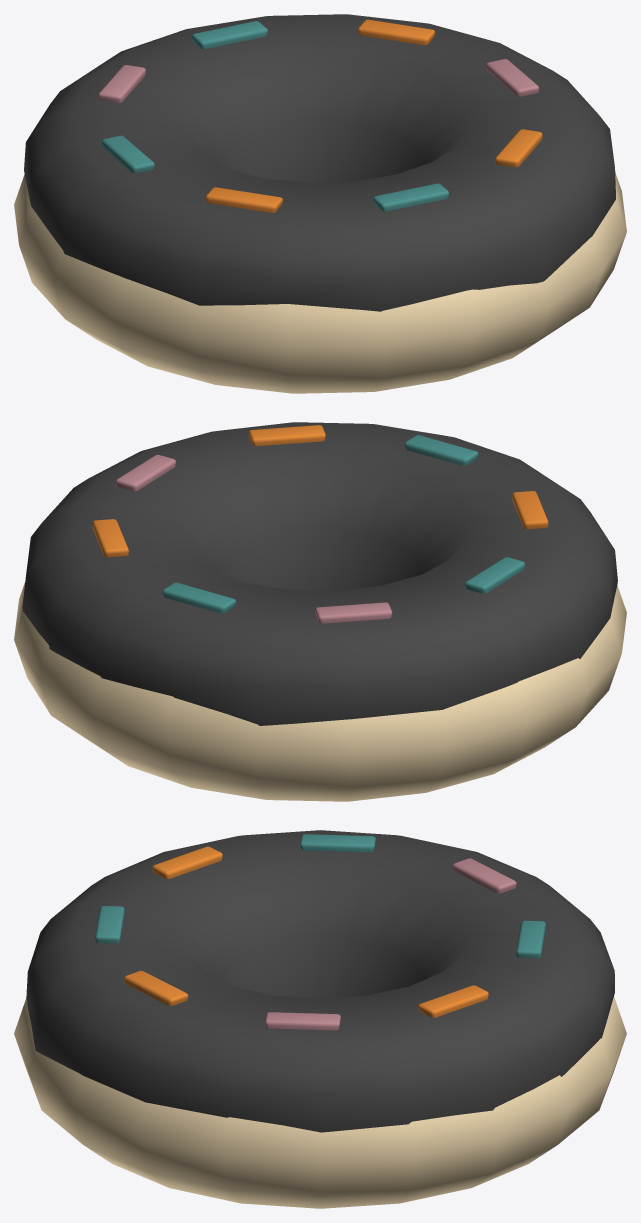
The model's file is Donut_2B.fbx.
The picture shows the model from 3 angles, top to bottom: view 1: azimuth 30°, elevation 25°; view 2: azimuth 150°, elevation 25°; view 3: azimuth 270°, elevation 25°; orthographic projection.
Parts seen in each view (by area): view 1: Donut_2B; view 2: Donut_2B; view 3: Donut_2B.
Boxes of the visible parts, bbox=[...] form: Donut_2B: bbox=[14, 14, 626, 393]; Donut_2B: bbox=[14, 422, 626, 801]; Donut_2B: bbox=[14, 830, 626, 1208].
Bounding box in the file's own units: 0.1186 × 0.0388 × 0.1186.
